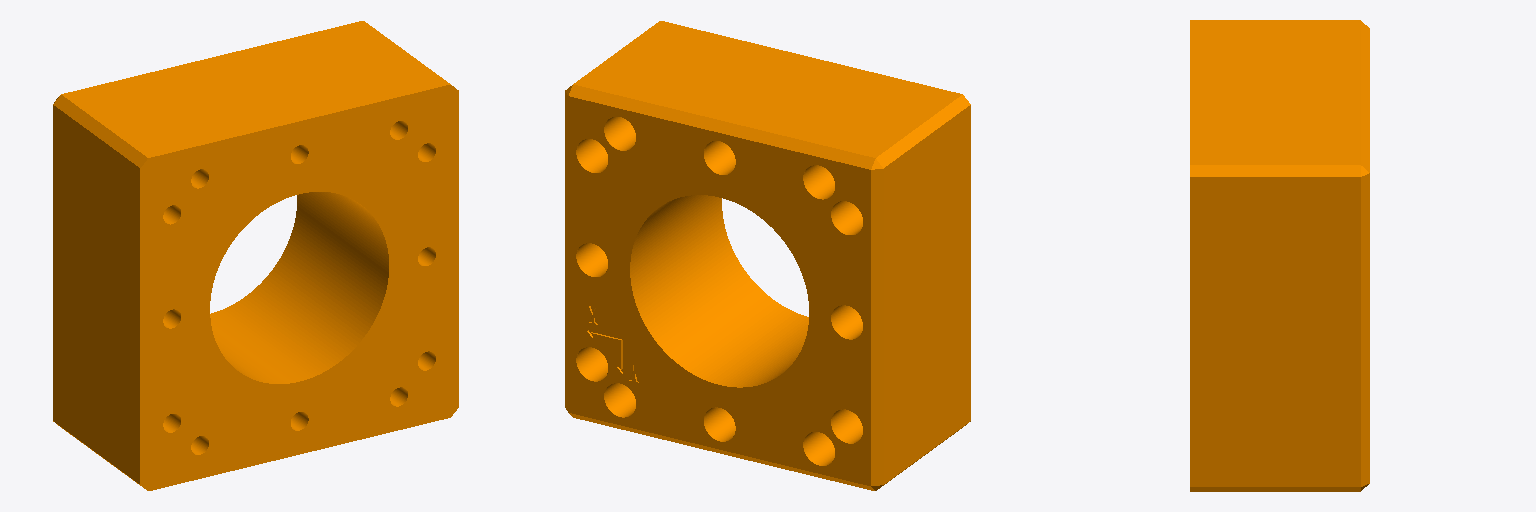
The robot description file, URDF, robot "hole_round":
<?xml version="1.0" ?>
<robot name="hole_round">
  <link concave="yes" name="hole_link">
    <contact>
      <lateral_friction value="1.0"/>
      <!-- <rolling_friction value="0.5"/>
      <contact_cfm value="0.0"/> -->
      <contact_erp value="0.0"/> 
    </contact>
    <inertial>
      <origin rpy="0 0 0" xyz="0 0 0"/>
        <mass value="0.1"/>
        <inertia ixx="0.01" ixy="0" ixz="0" iyy="0.01" iyz="0" izz="0.01"/>
    </inertial>
    <visual>
      <origin rpy="0 0 0" xyz="0 0 0"/>
      <geometry>
			  <mesh filename="meshes/hole/hole_round.STL" scale="0.001 0.001 0.001"/>
      </geometry>
      <material name="orange">
        <color rgba="1 0.6 0 1"/>
      </material>
    </visual>
    <collision concave="yes">
      <origin rpy="0 0 0" xyz="0 0 0"/>
      <geometry>
	 	    <mesh filename="meshes/hole/hole_round.STL" scale="0.001 0.001 0.001"/>
      </geometry>
    </collision>
  </link>
  <link name="hole_target_link">
    <inertial>
      <mass value="0" />
      <origin rpy="0 0 0" xyz="0.0 0.0 0.0" />
      <inertia ixx="0.0" ixy="0.0" ixz="0.0" iyy="0.0" iyz="0.0" izz="0.0" />
    </inertial>
  </link>
  <joint name="hole_link-hole_target_link" type="fixed">
    <parent link="hole_link"/>
    <child link="hole_target_link"/>
    <origin rpy="0.0 0.0 0.0" xyz="0.0 0.0 0.0"/>
  </joint>
</robot>

--- Render facts (derived) ---
The picture shows the robot from 3 angles, left to right: view 1: azimuth 30°, elevation 25°; view 2: azimuth 150°, elevation 25°; view 3: azimuth 270°, elevation 25°; orthographic projection.
Model hole_round with 2 links and 1 joints (1 fixed), rooted at hole_link, posed all joints at 0.
Visible links, largest first — view 1: hole_link; view 2: hole_link; view 3: hole_link.
Boxes of the visible links, <box> form: hole_link: <box>53,21,458,490</box>; hole_link: <box>565,21,970,490</box>; hole_link: <box>1190,20,1369,491</box>.
Size in the robot's own frame: 0.08 by 0.04 by 0.08 metres.
Meshes: 1 distinct files referenced, 1 mesh visuals loaded (1 binary STL).